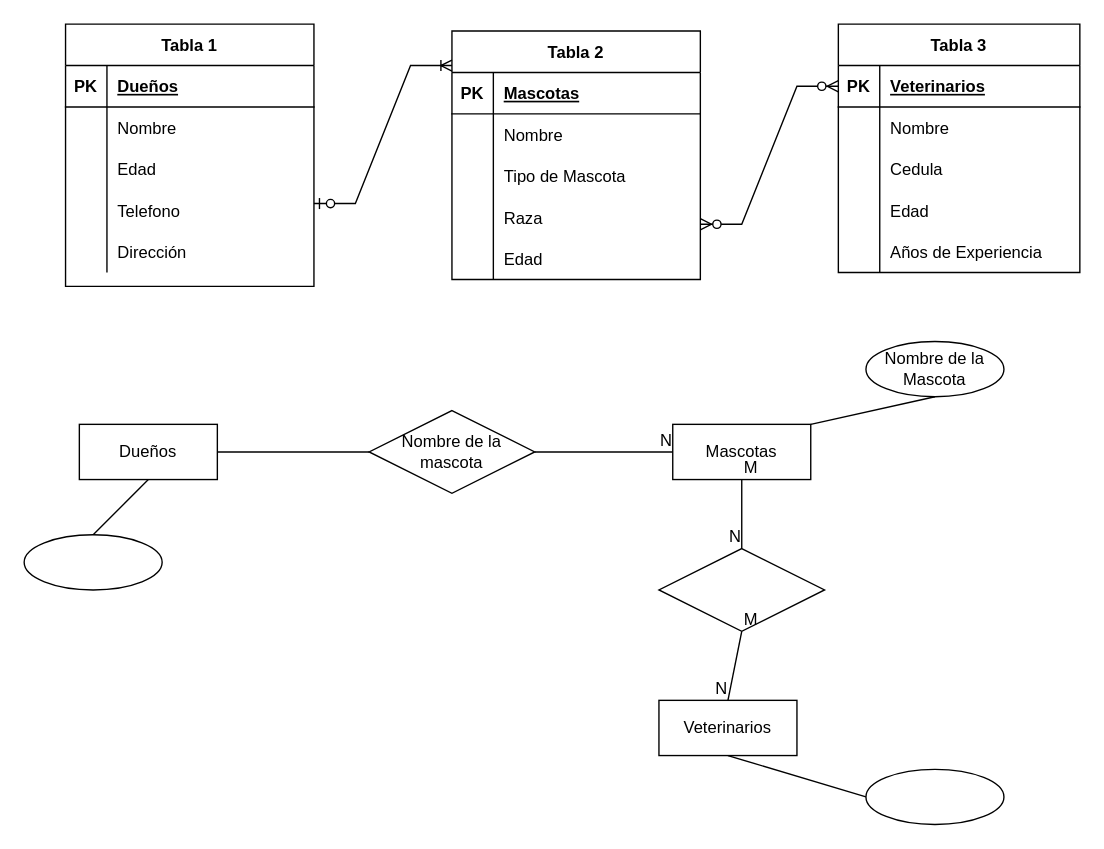
This 1104x849 diagram has some shape labels left out. Each missing label, with the centre of its shape:
"Atendido" goes at pixel 741 589.
"Cédula" goes at pixel 934 796.
"ID Cliente" goes at pixel 92 561.
